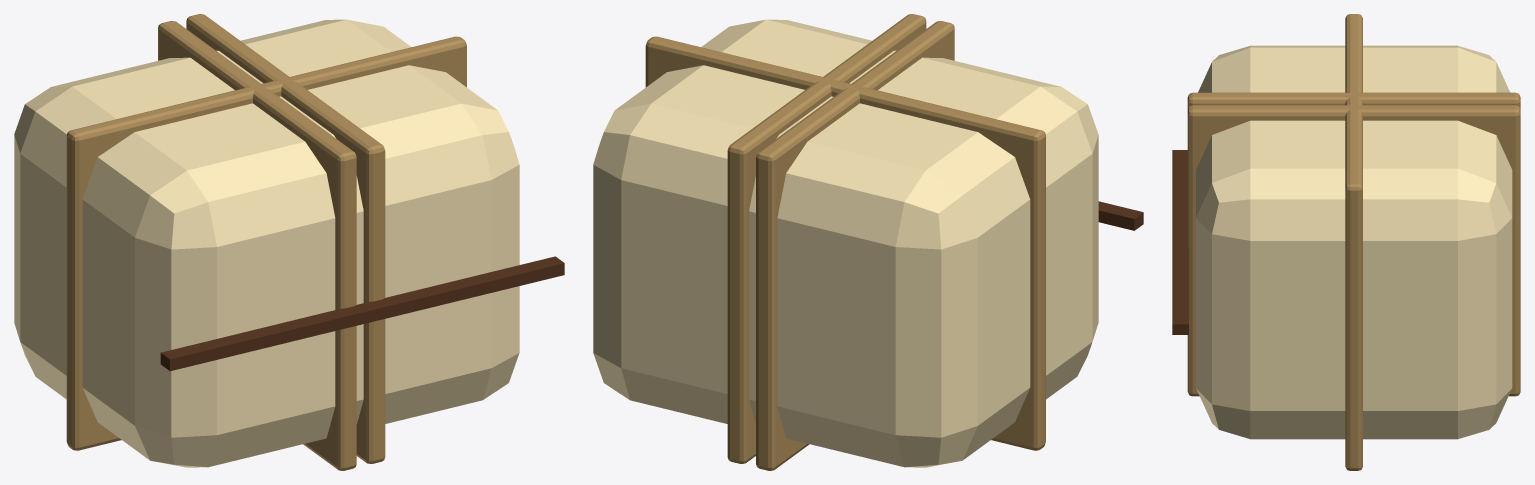
Rendered from kit_parcel.glb.
3 renders of one model, left to right at view 1: azimuth 30°, elevation 25°; view 2: azimuth 150°, elevation 25°; view 3: azimuth 270°, elevation 25°, orthographic. The views are drawn at different scales.
Visible parts, largest first — view 1: Linen parcel, Parcel cross tie, Parcel tie, Parcel tie.001, Woodland worn prop binding.003; view 2: Linen parcel, Parcel cross tie, Parcel tie, Parcel tie.001, Woodland worn prop binding.003; view 3: Linen parcel, Parcel tie.001, Parcel cross tie, Parcel tie, Woodland worn prop binding.003.
Part boxes in pixels (left/top/right/bottom): Linen parcel: left=14, top=19, right=519, bottom=467; Parcel cross tie: left=66, top=36, right=466, bottom=450; Parcel tie: left=158, top=21, right=356, bottom=470; Parcel tie.001: left=186, top=14, right=385, bottom=463; Woodland worn prop binding.003: left=160, top=256, right=564, bottom=371; Linen parcel: left=593, top=19, right=1098, bottom=467; Parcel cross tie: left=645, top=36, right=1045, bottom=450; Parcel tie: left=756, top=21, right=954, bottom=470; Parcel tie.001: left=727, top=14, right=926, bottom=463; Woodland worn prop binding.003: left=1098, top=201, right=1143, bottom=230; Linen parcel: left=1196, top=45, right=1512, bottom=439; Parcel tie.001: left=1187, top=105, right=1520, bottom=396; Parcel cross tie: left=1345, top=14, right=1362, bottom=470; Parcel tie: left=1187, top=92, right=1520, bottom=108; Woodland worn prop binding.003: left=1172, top=150, right=1188, bottom=334.
Bounding box in the file's own units: 0.417 × 0.32 × 0.3525.
